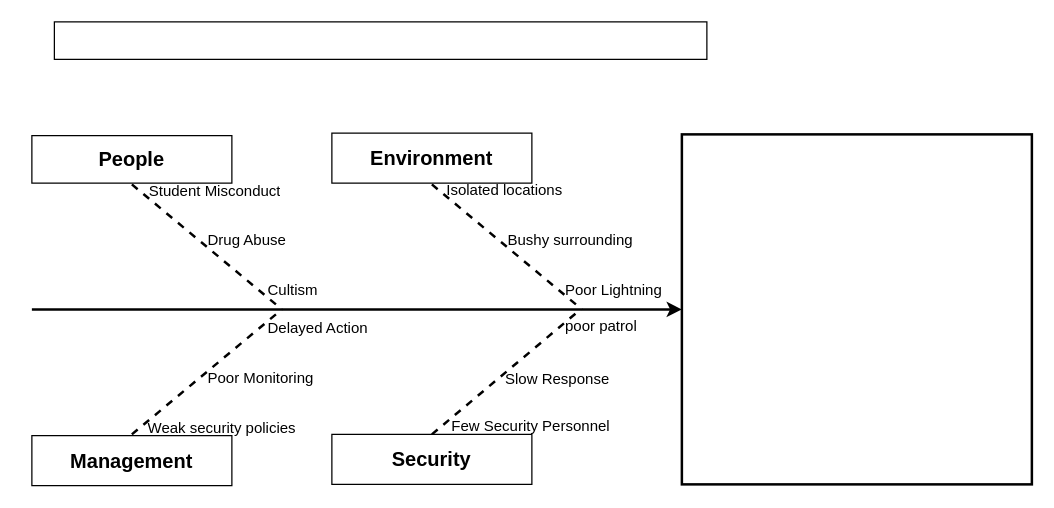
Image size: 1054x508. Some labels were removed from this diagram. Here are the shapes that lost their labels. From the top down, the box of each, then its label:
(53, 21, 707, 59): An Ishikawa Diagram for Campus Insecurity
(680, 132, 1032, 485): Campus Insecurity
